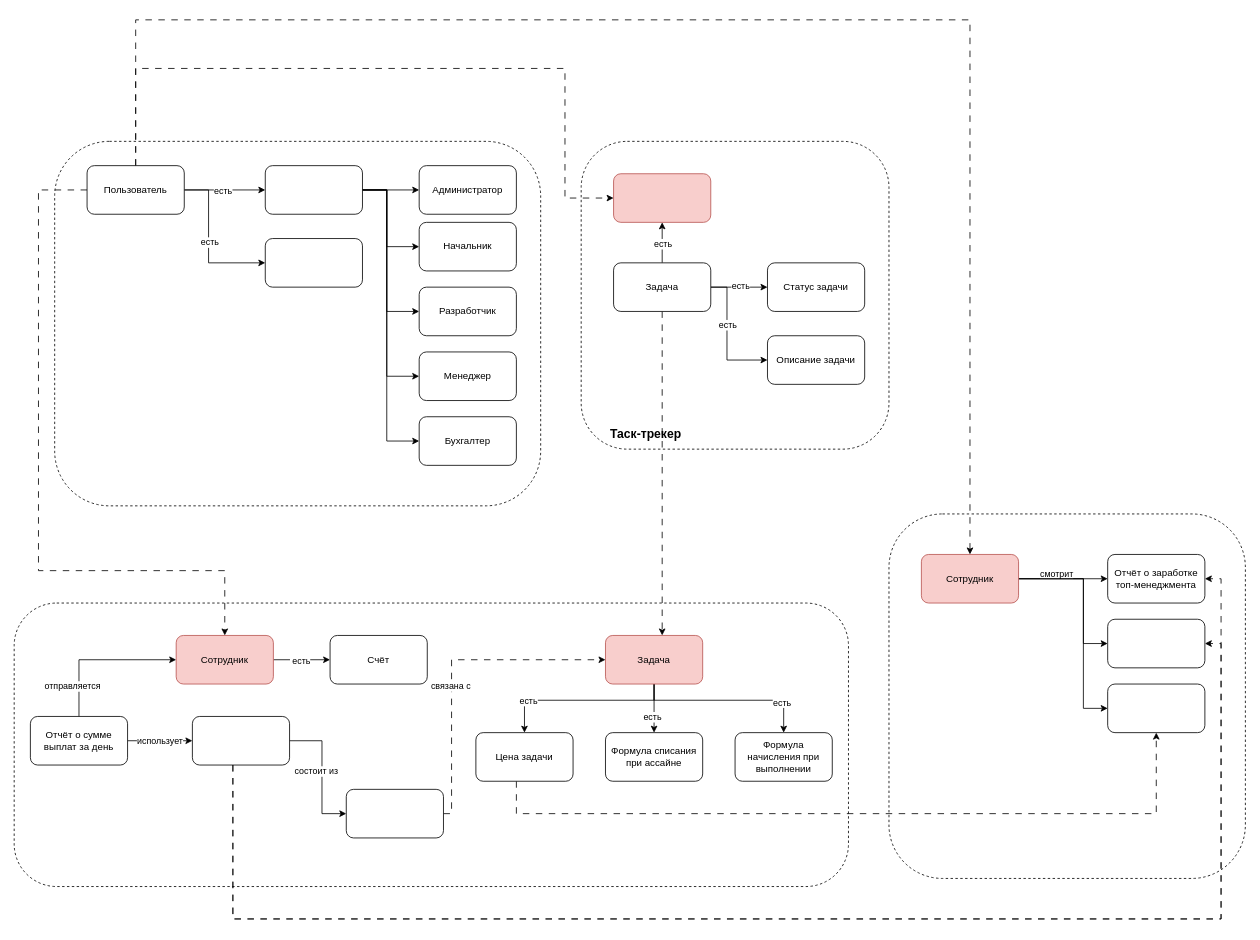
Some shapes in this 1260 by 940 pixel diagram are drawn without their labels. The box of each missing label's shape, as (x1, y1, x2, y2) in pixels:
Авторизация: (54, 141, 541, 506)
Аккаунтинг: (13, 602, 848, 887)
Аналитика: (888, 513, 1245, 878)
Исполнитель задачи: (613, 173, 711, 222)
Лог операций: (192, 716, 290, 765)
Операция: (345, 789, 443, 838)
Отчёт о попугах, ушедших в минус: (1107, 618, 1205, 668)
Отчёт о самых дорогих задачах: (1107, 683, 1205, 733)
Почта: (264, 238, 362, 287)
Роль: (264, 165, 362, 214)
